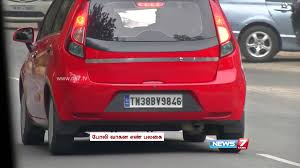T: (129, 96, 135, 106)
